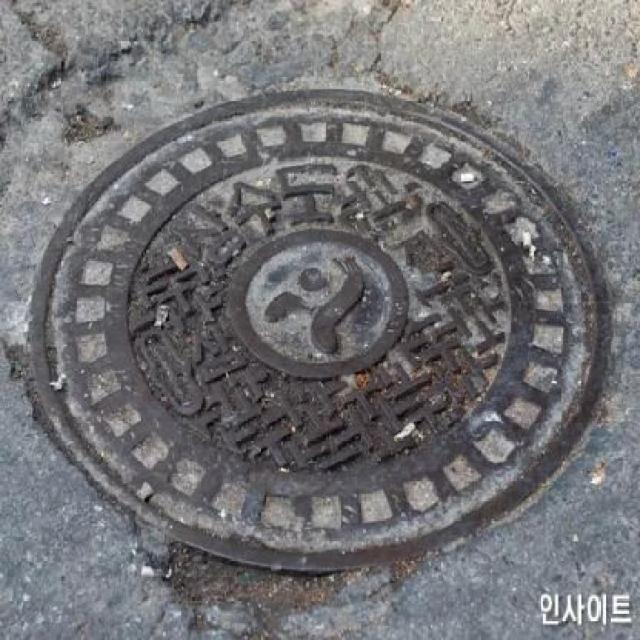Sewer Cover: (45, 101, 637, 556)
